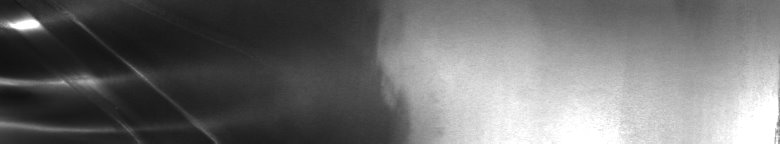ke: (4, 4, 213, 136)
